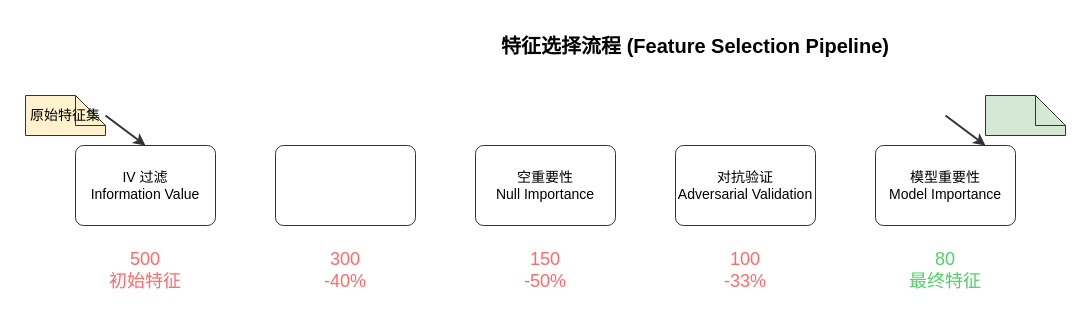
Image size: 1083x312. Some labels were removed from this diagram. The shapes that lost their labels are listed below. From the top down, each one's centre as x and y in pixels, then its label:
At (x=1025, y=115): "最优特征子集".
At (x=345, y=185): "相关性过滤 Correlation Matrix".
